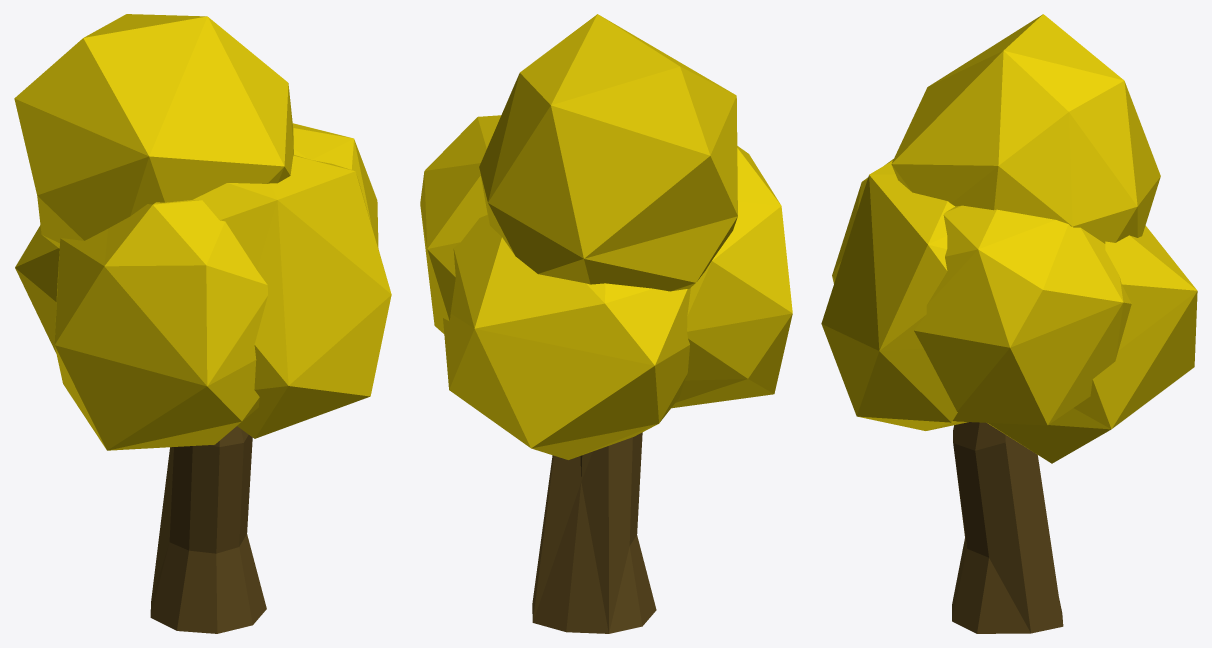
File: Tree#3.fbx
3 views of the same model, side by side, from view 1: azimuth 30°, elevation 25°; view 2: azimuth 150°, elevation 25°; view 3: azimuth 270°, elevation 25° (orthographic). The views are drawn at different scales.
Parts seen in each view (by area): view 1: Tree#3; view 2: Tree#3; view 3: Tree#3.
Part boxes in pixels (bbox=[...]): Tree#3: bbox=[14, 14, 391, 633]; Tree#3: bbox=[420, 14, 792, 633]; Tree#3: bbox=[821, 14, 1197, 633].
Size of the model in its own units: 410 by 670 by 406.
